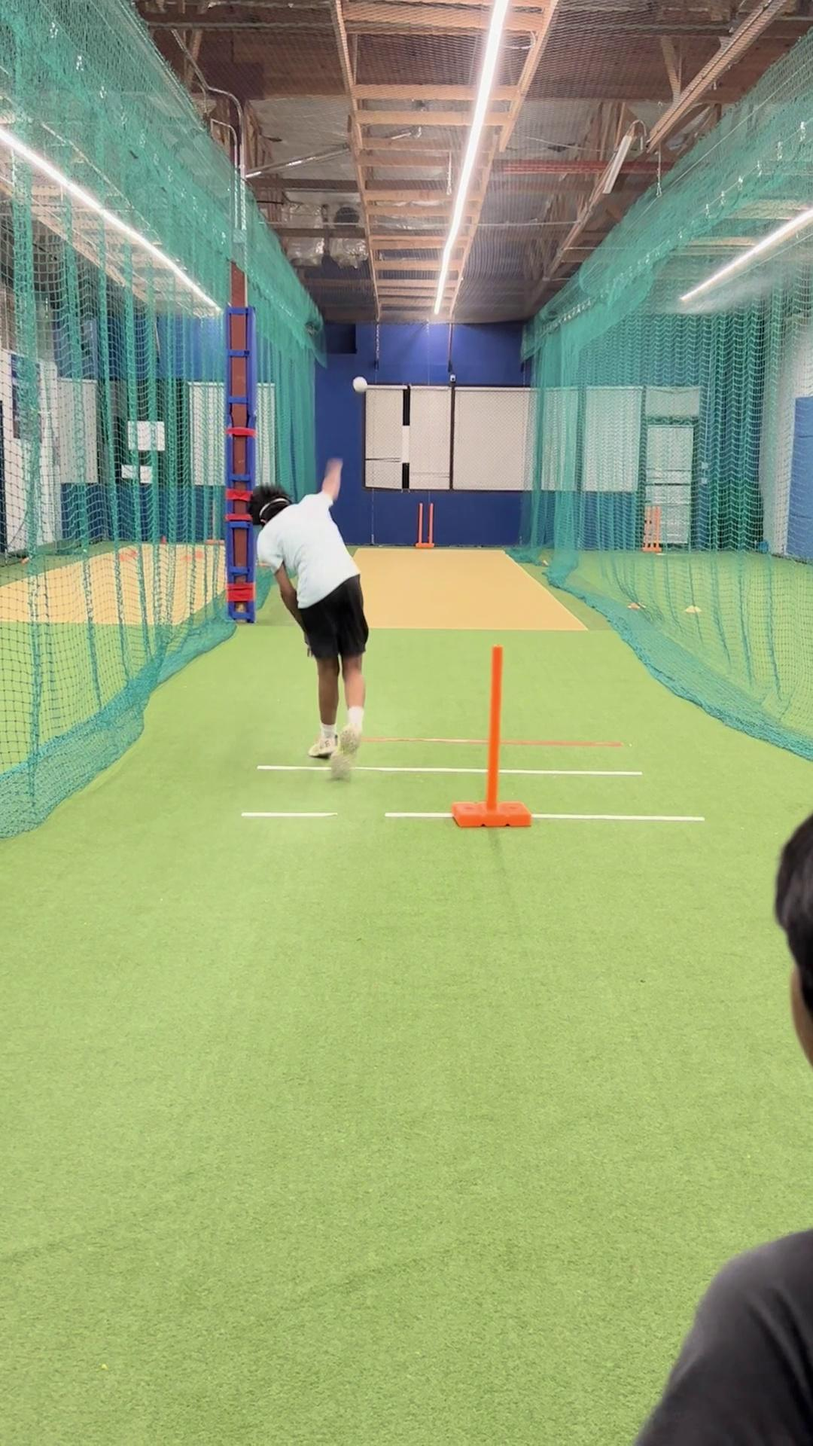ball: (347, 372, 370, 396)
